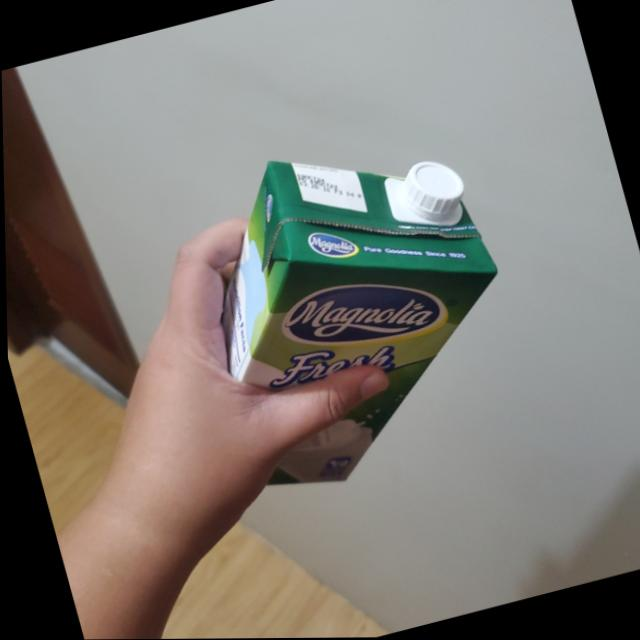milk: (141, 111, 542, 511)
